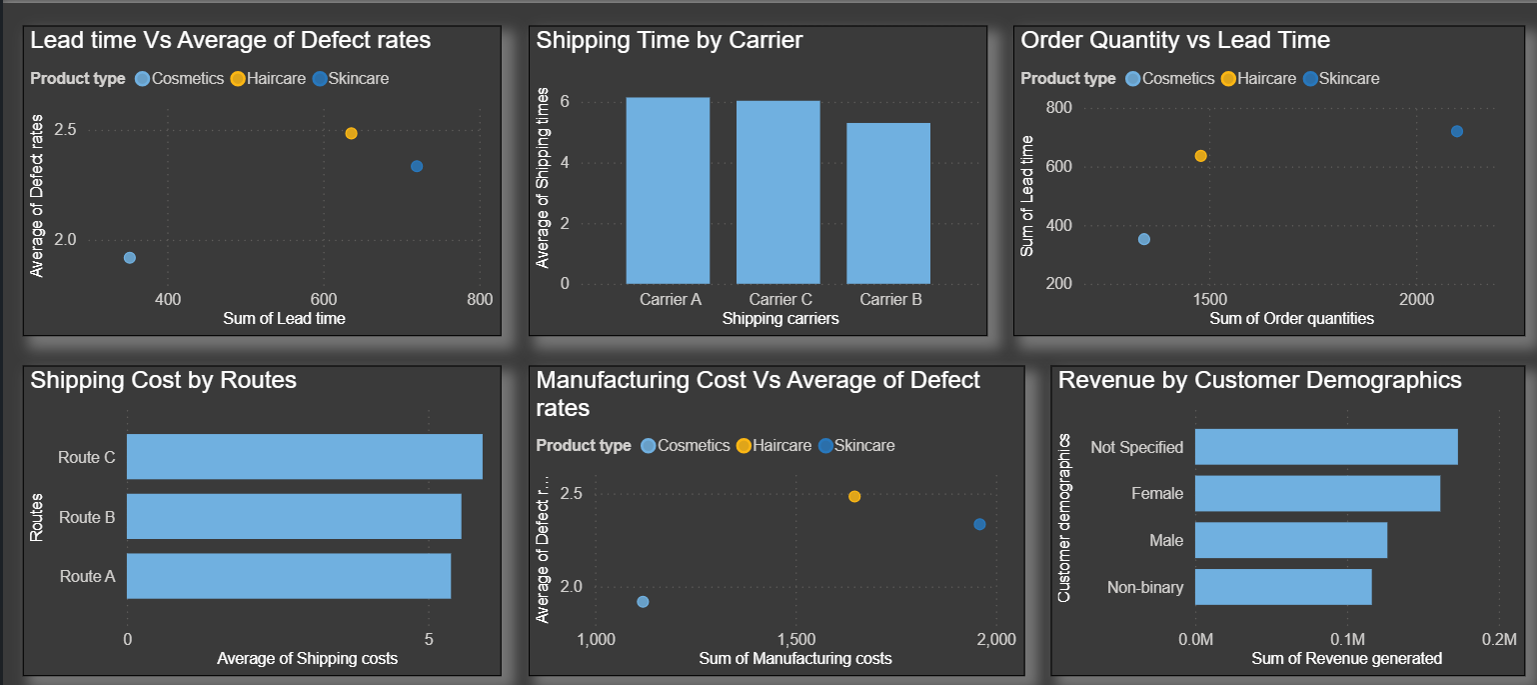

This screenshot's page, from the dashboard's own definition file:
{"tool":"powerbi","page":{"name":"Diagnostic Analysis","canvas":[1200,540],"ordinal":4},"visuals":[{"type":"scatterChart","title":"Lead time Vs Average of Defect rates ","fields":{"Y":["Avg(Cleaned Data.Defect rates)"],"Series":["Cleaned Data.Product type"],"X":["Cleaned Data.Lead time"]},"box":[18.1,16.9,369.2,238.9],"z":0},{"type":"clusteredBarChart","title":"Shipping Cost by Routes","fields":{"Y":["Avg(Cleaned Data.Shipping costs)"],"Category":["Cleaned Data.Routes"]},"box":[18.1,278.7,369.2,238.9],"z":1000},{"type":"scatterChart","title":"Manufacturing Cost Vs Average of Defect rates ","fields":{"Y":["Avg(Cleaned Data.Defect rates)"],"Series":["Cleaned Data.Product type"],"X":["Sum(Cleaned Data.Manufacturing costs)"]},"box":[407.8,278.7,382.4,238.9],"z":2000},{"type":"scatterChart","title":"Order Quantity vs Lead Time ","fields":{"Series":["Cleaned Data.Product type"],"Y":["Sum(Cleaned Data.Lead time)"],"X":["Sum(Cleaned Data.Order quantities)"]},"box":[781.8,16.9,394.5,238.9],"z":3000},{"type":"columnChart","title":"Shipping Time by Carrier","fields":{"Y":["Avg(Cleaned Data.Shipping times)"],"Category":["Cleaned Data.Shipping carriers"]},"box":[407.8,16.9,353.5,238.9],"z":4000},{"type":"clusteredBarChart","title":"Revenue by Customer Demographics","fields":{"Category":["Cleaned Data.Customer demographics"],"Y":["Sum(Cleaned Data.Revenue generated)"]},"box":[810.7,278.7,365.6,238.9],"z":5000}]}

Visuals, with their boxes in screenshot pixels (x1, y1, x2, y2), scaled from the page's 1200x540 canvas onto the 1537x685 screenshot:
"Lead time Vs Average of Defect rates " scatterChart: 23 21 496 324
"Shipping Cost by Routes" clusteredBarChart: 23 354 496 657
"Manufacturing Cost Vs Average of Defect rates " scatterChart: 522 354 1012 657
"Order Quantity vs Lead Time " scatterChart: 1001 21 1507 324
"Shipping Time by Carrier" columnChart: 522 21 975 324
"Revenue by Customer Demographics" clusteredBarChart: 1038 354 1507 657
